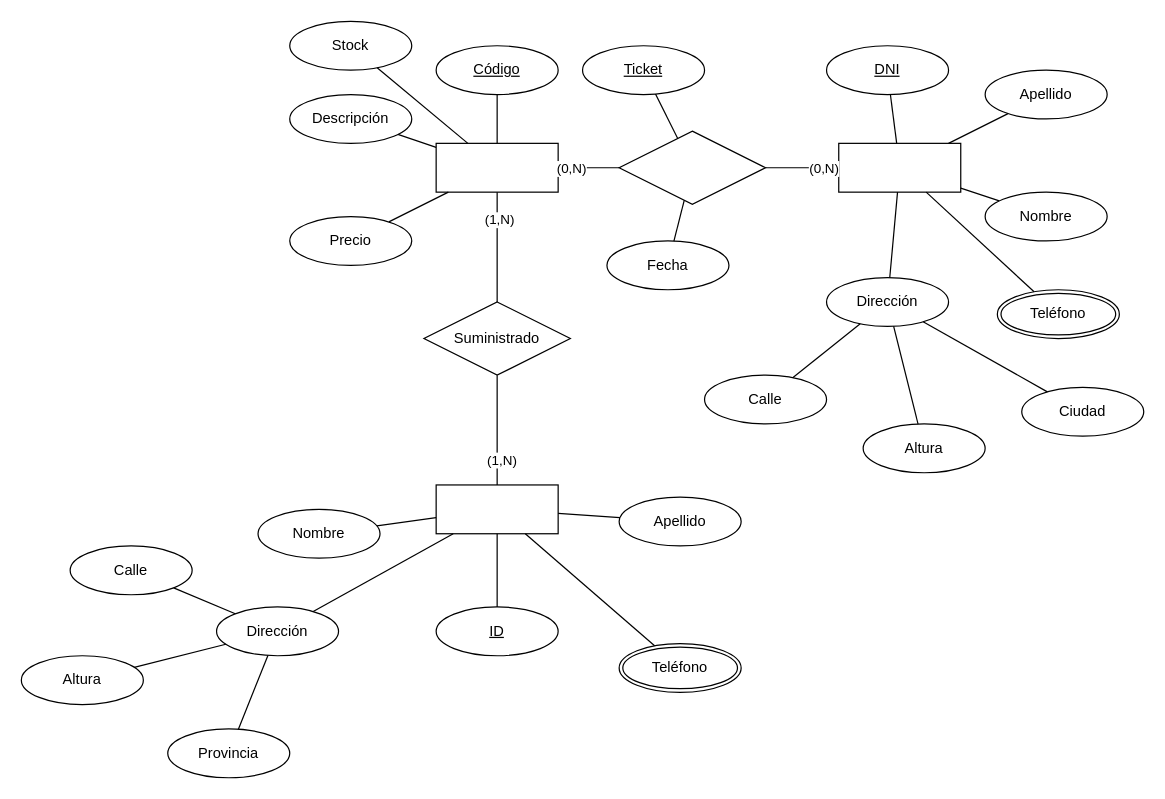
Image size: 1165x799. Some labels were removed from this diagram. The centre of each missing label's shape, as x and y in pixels:
Cliente: point (899, 167)
Producto: point (496, 167)
Proveedor: point (496, 509)
Venta: point (692, 167)
